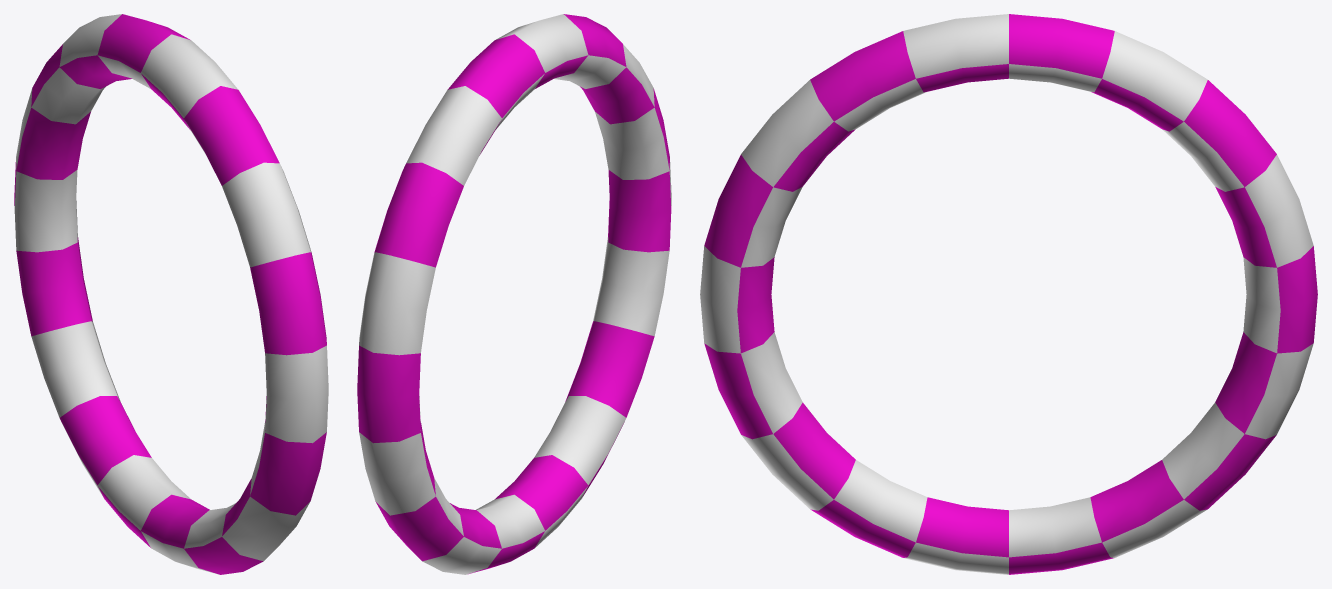
The model's file is Diresel Geçit Alanı Part 2 .fbx.
3 views of the same model, side by side, from view 1: azimuth 30°, elevation 25°; view 2: azimuth 150°, elevation 25°; view 3: azimuth 270°, elevation 25° (orthographic). The views are drawn at different scales.
Visible parts, largest first — view 1: Torus; view 2: Torus; view 3: Torus.
Boxes of the visible parts, x1,y1,x2,y2 form: Torus: [14, 14, 328, 574]; Torus: [357, 14, 671, 574]; Torus: [700, 14, 1317, 574].
Size of the model in its own units: 27.76 by 224 by 224.
